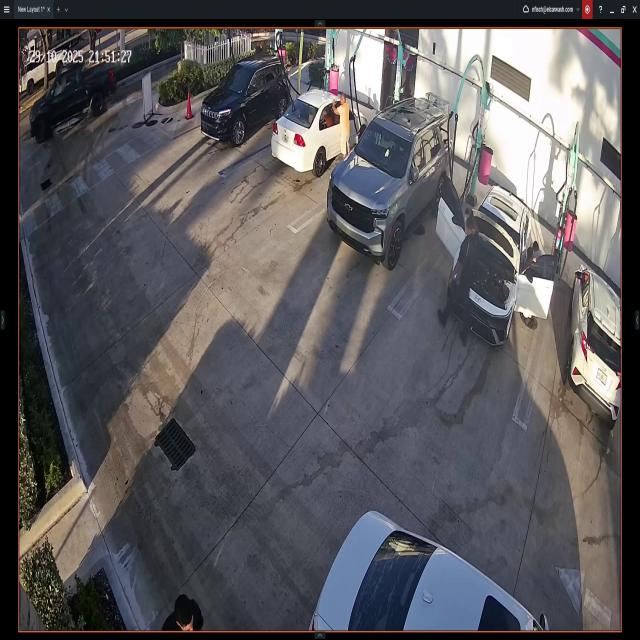Car: (311, 512, 548, 630), (330, 99, 452, 268), (441, 181, 553, 340), (272, 90, 367, 174), (573, 261, 621, 424), (201, 54, 287, 142), (31, 62, 114, 142)
